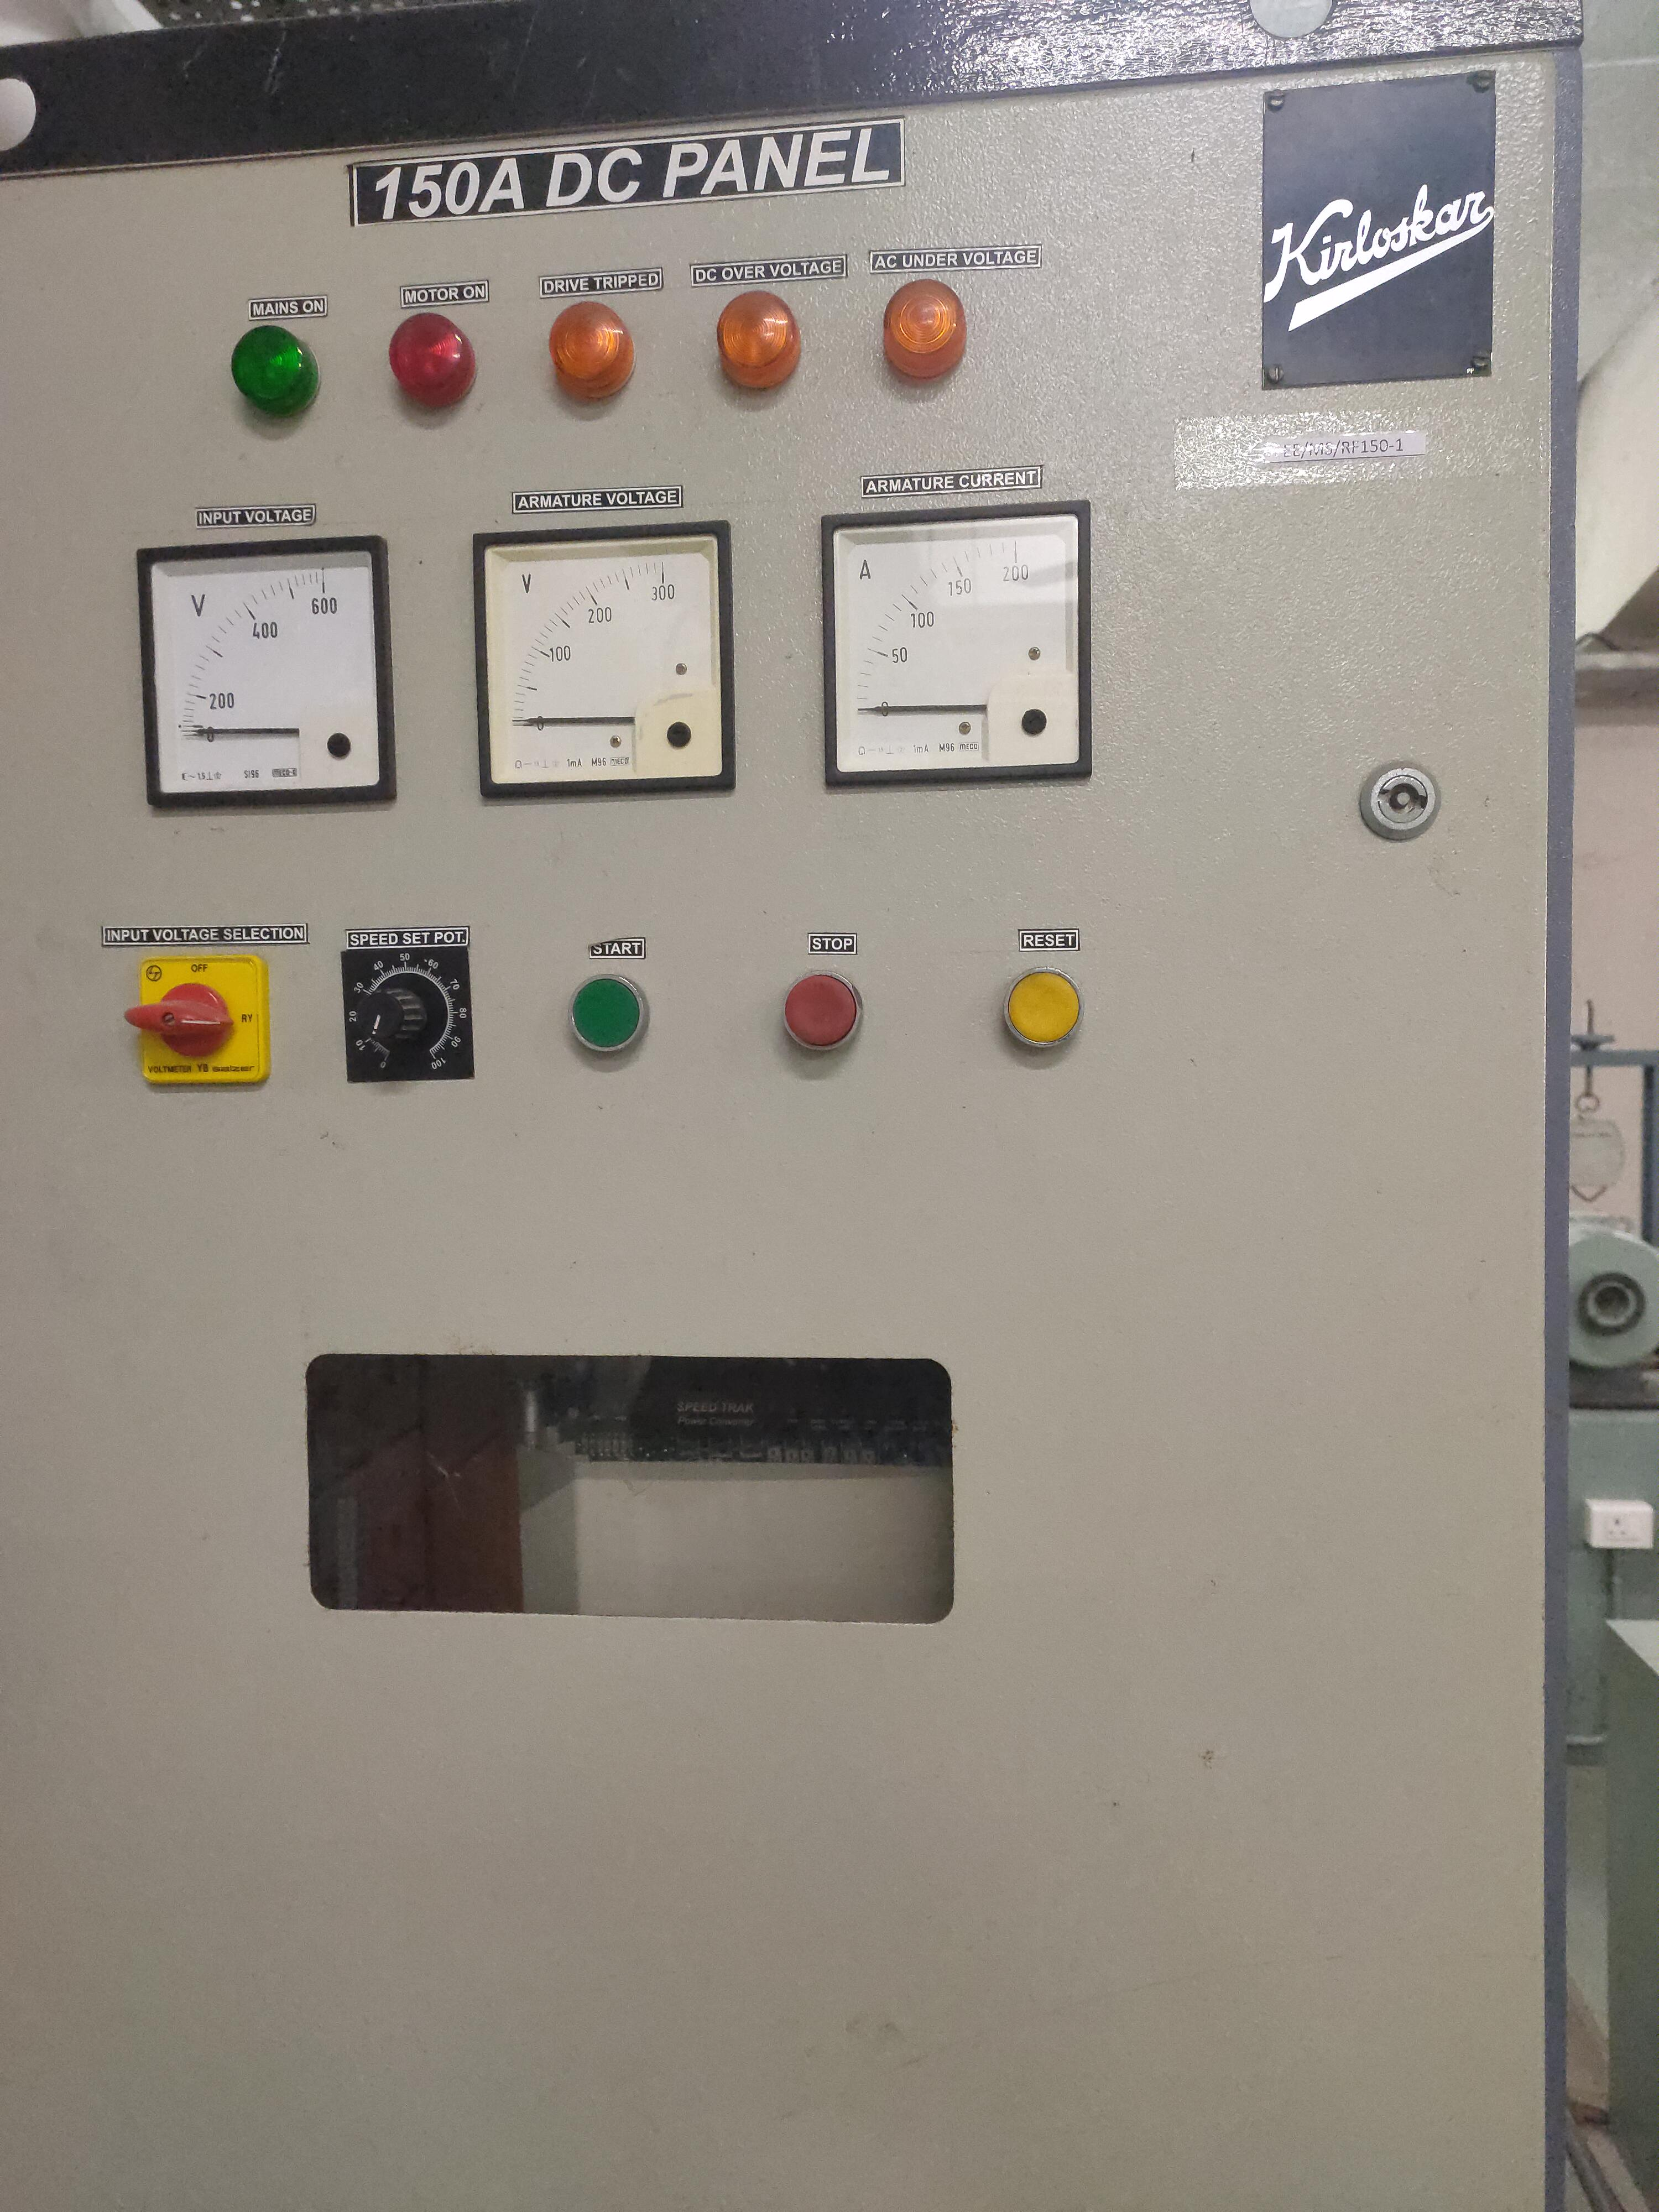Light Indications: (186, 251, 997, 455)
